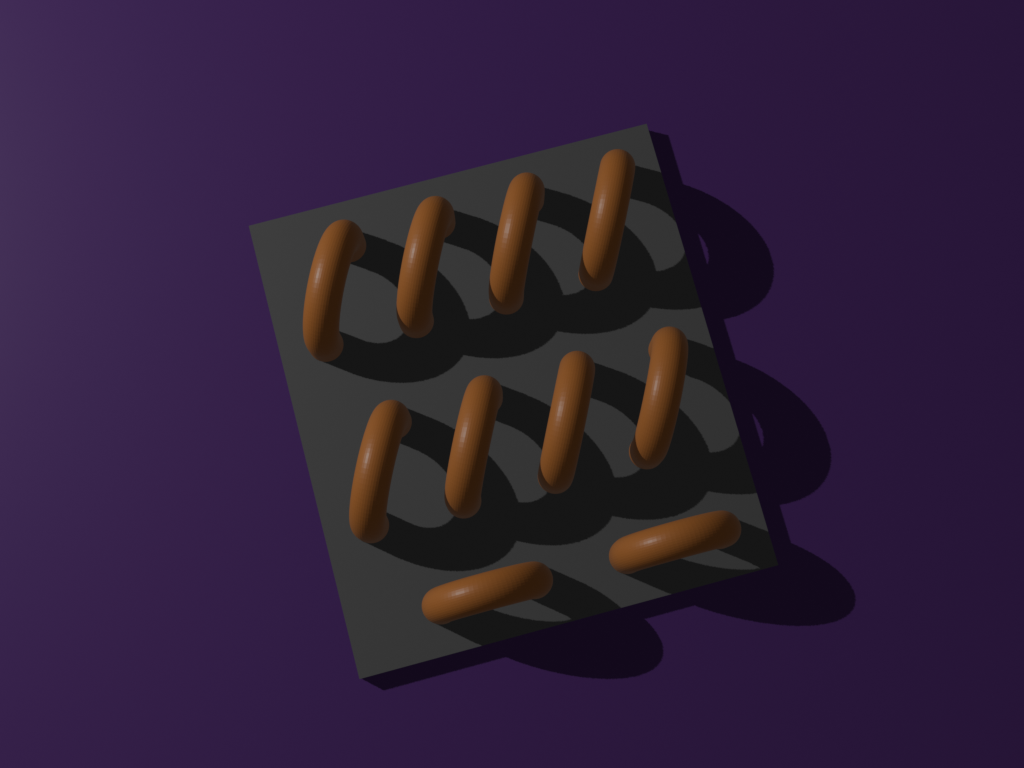return-bend: (557, 130, 658, 303), (517, 334, 618, 507), (282, 199, 383, 371), (371, 178, 472, 350), (467, 153, 568, 325), (421, 361, 522, 533), (327, 384, 427, 557), (611, 313, 711, 486), (405, 543, 578, 642), (593, 493, 766, 592)
